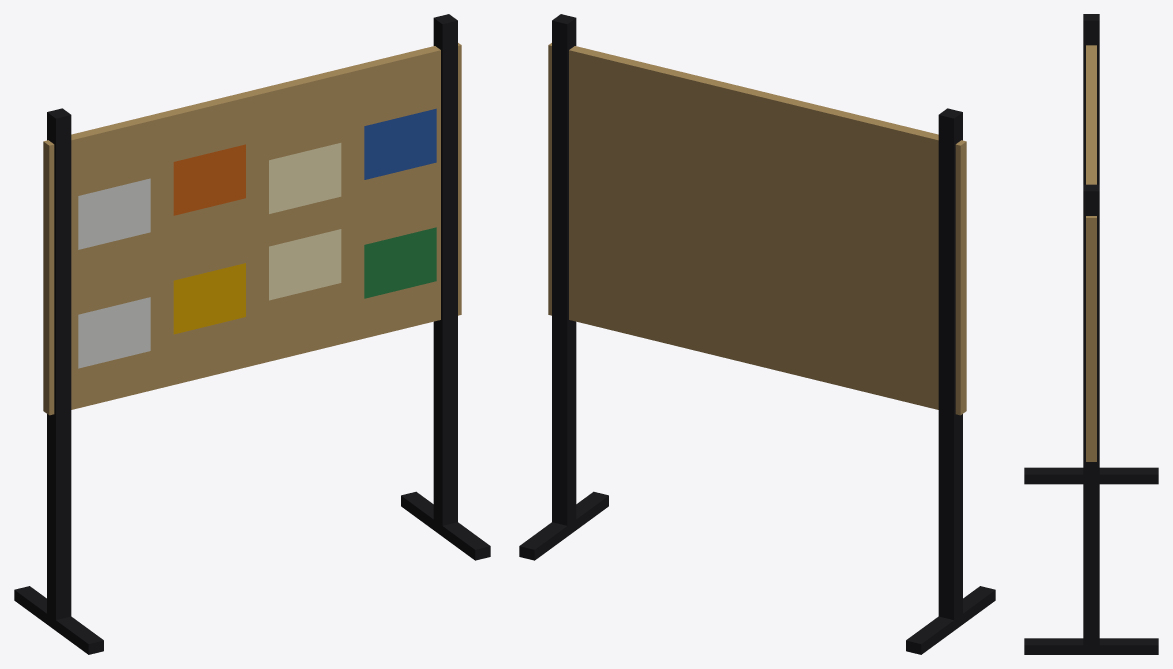
File: prop_jobs-board.9882d32888e8.glb
The picture shows the model from 3 angles, left to right: view 1: azimuth 30°, elevation 25°; view 2: azimuth 150°, elevation 25°; view 3: azimuth 270°, elevation 25°; orthographic projection. The views are drawn at different scales.
Visible parts, largest first — view 1: body; view 2: body; view 3: body.
Part boxes in pixels (left/top/right/bottom): body: left=14, top=14, right=490, bottom=654; body: left=519, top=14, right=995, bottom=654; body: left=1024, top=14, right=1158, bottom=654.
Size of the model in its own units: 1.6 by 1.9 by 0.5.
